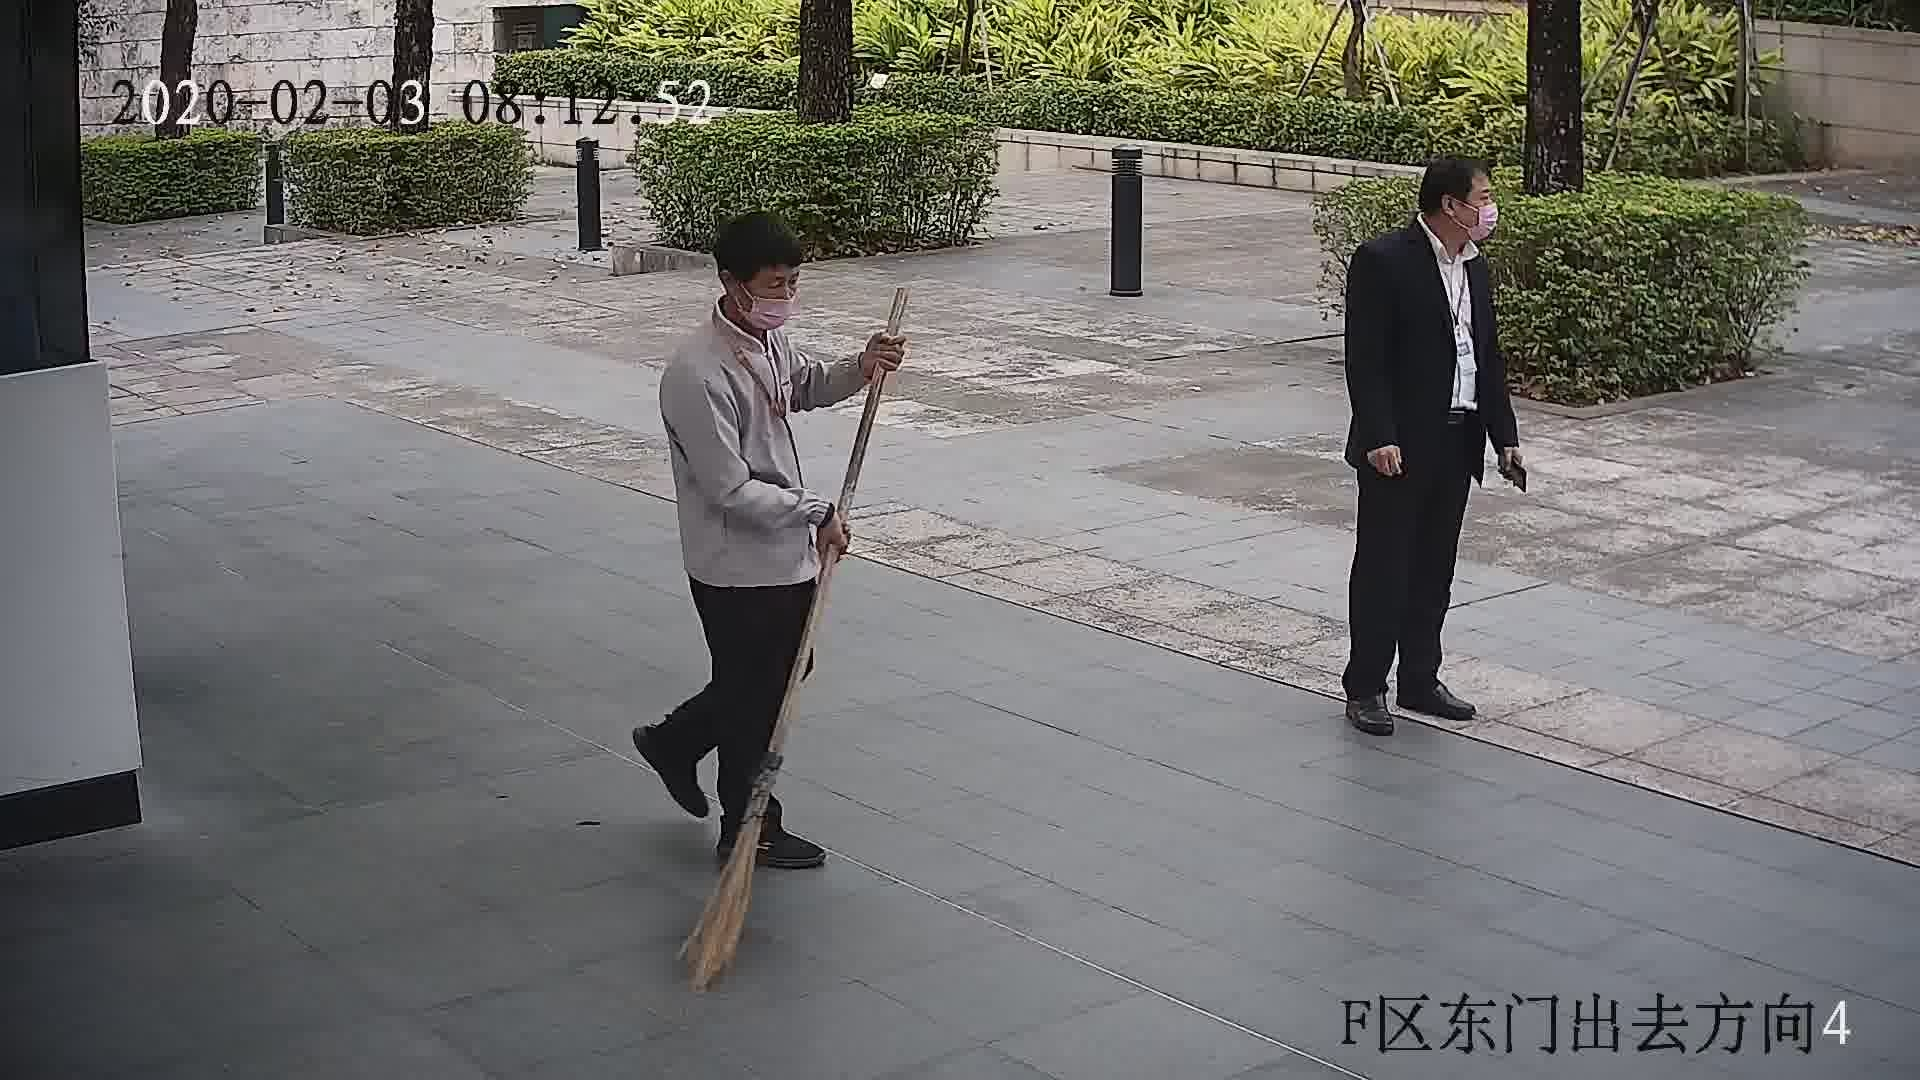face: (1434, 159, 1503, 247), (732, 254, 797, 320)
mask: (747, 290, 799, 328), (1465, 200, 1503, 237)
person: (680, 215, 824, 389), (1355, 152, 1501, 284)
